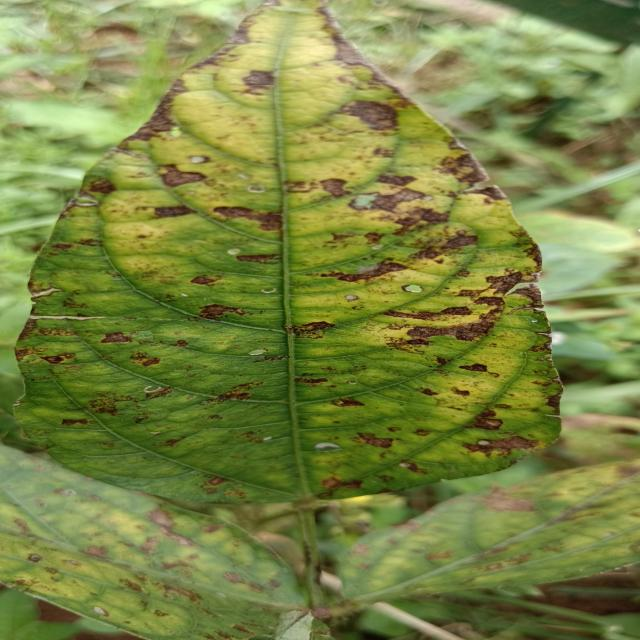Black gram_leaf spot: (21, 0, 561, 513)
